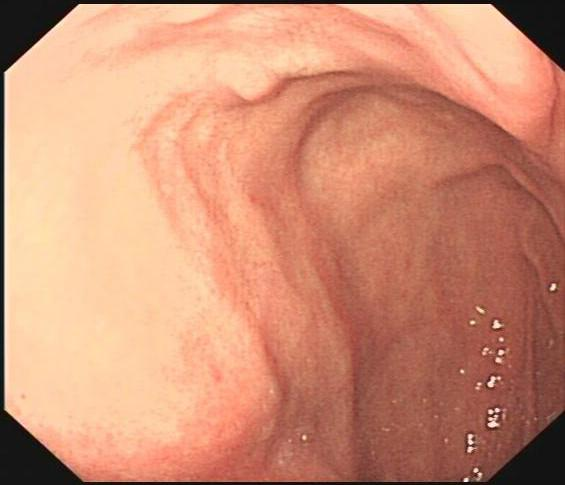Polyp: (213, 57, 291, 112)
